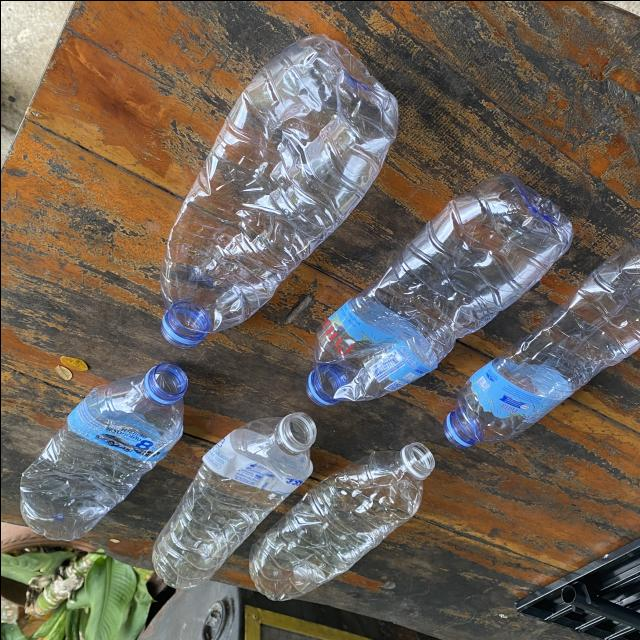plastik: (160, 33, 398, 347), (305, 173, 572, 405), (442, 237, 640, 446), (19, 363, 186, 539), (248, 442, 433, 599), (152, 412, 316, 588)
